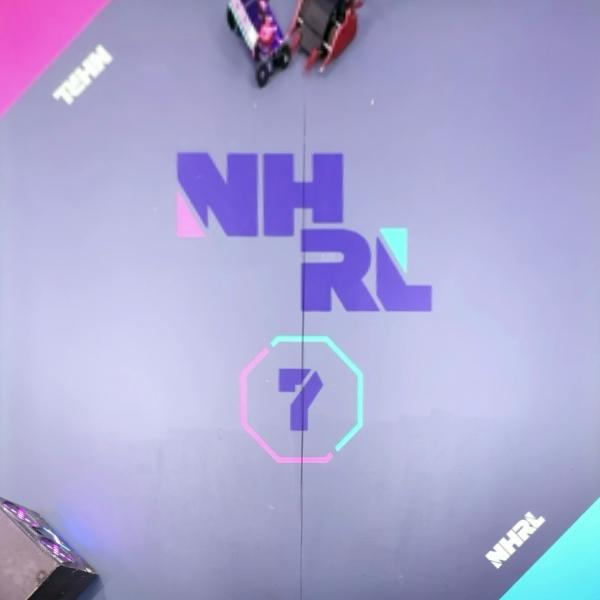housebot: (0, 494, 103, 599)
robot: (224, 0, 294, 90), (287, 0, 367, 78)
